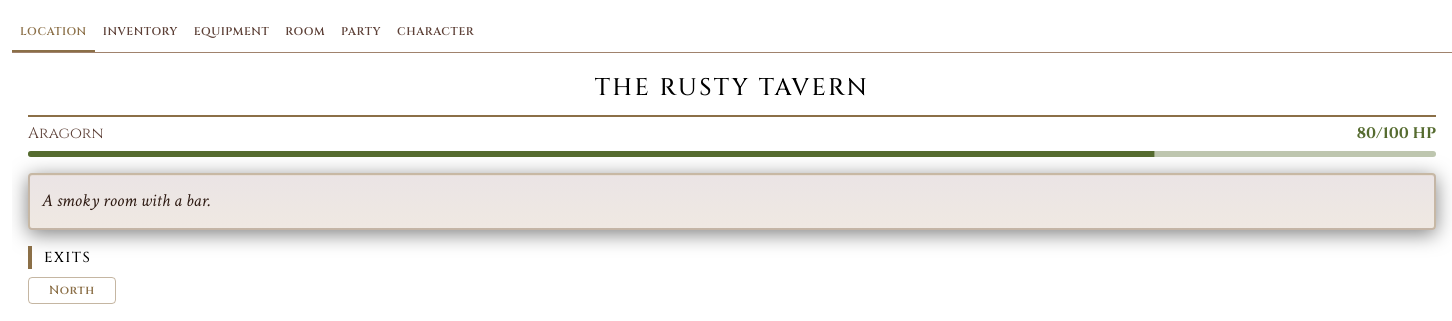
Scenario: GameInfo › shows empty inventory message when inventory is empty
Click the tab "Inventory" at (140, 32), box [95,12,186,52]
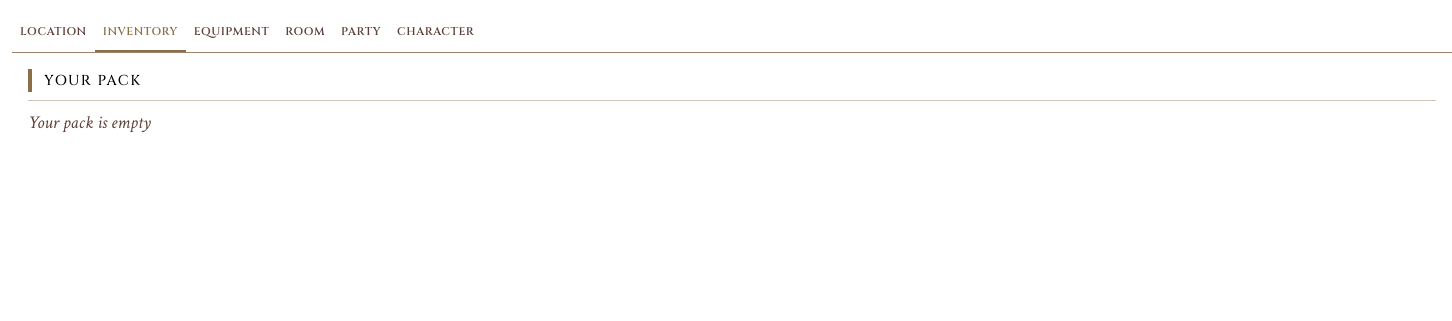
Result: the text "Your pack is empty" is shown at [28,111,151,134]
